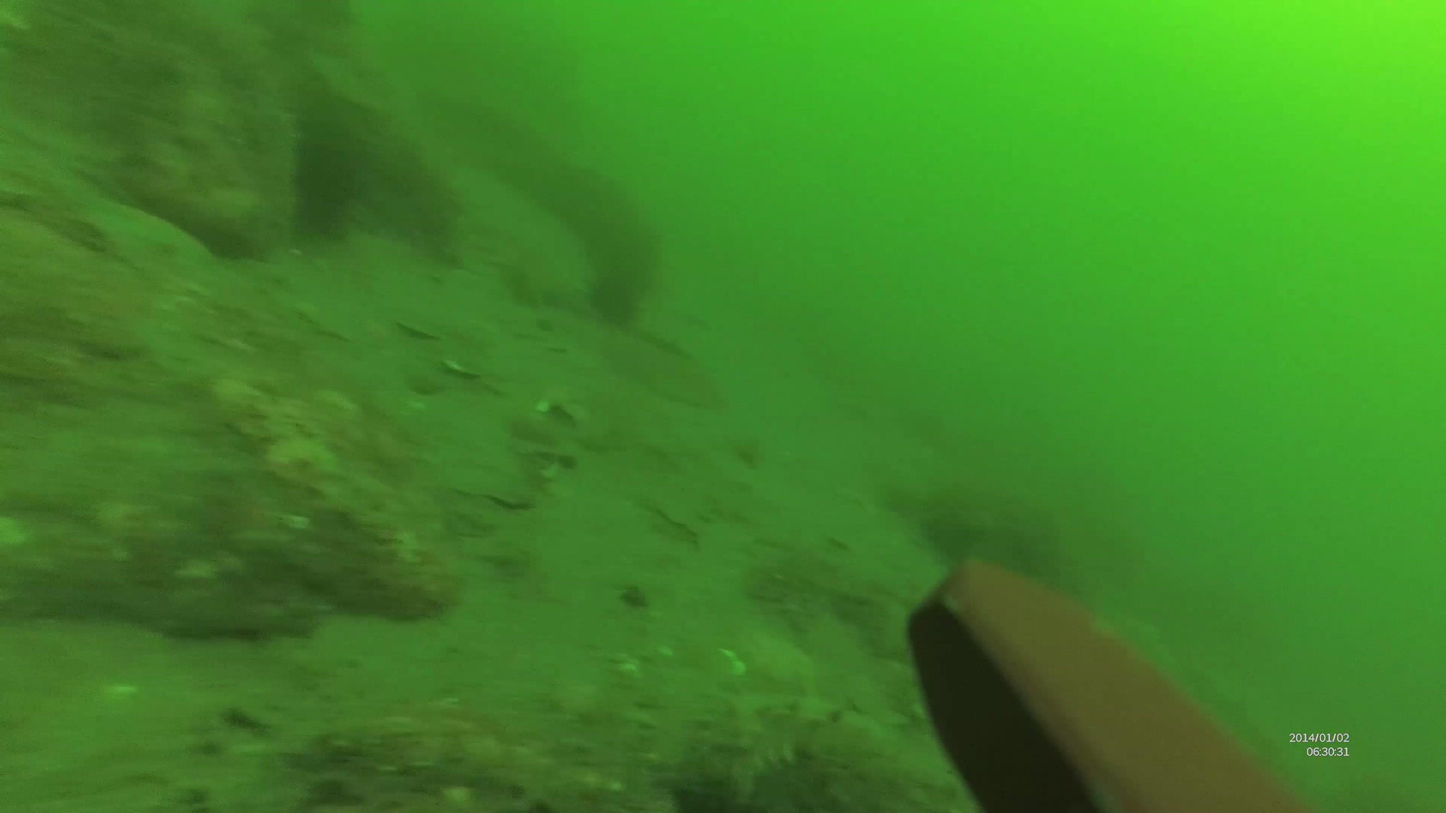echinus: (669, 691, 965, 813)
starfish: (259, 146, 357, 239)
